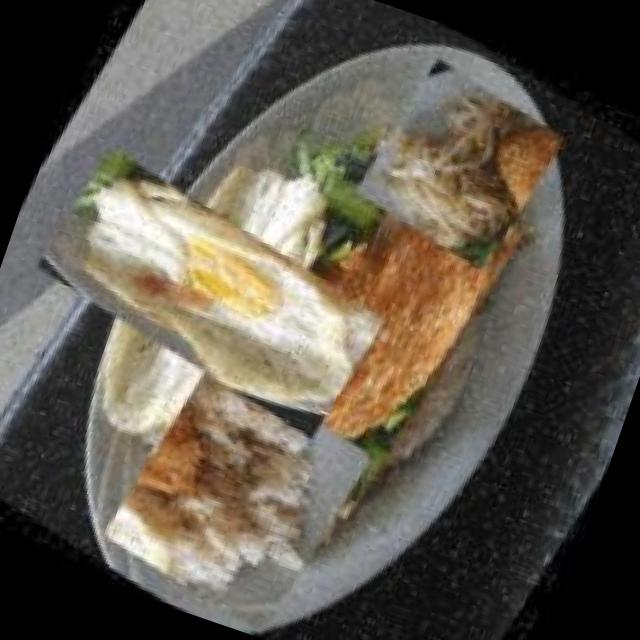fried_chicken: (195, 120, 538, 550)
fried_eggs: (29, 112, 392, 474)
mung_bean_sprouts: (340, 44, 580, 285)
rice: (81, 337, 392, 640)
water_spinach: (255, 98, 427, 282)
